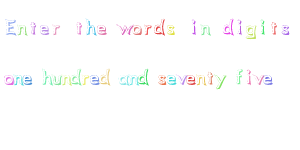E: (4, 16, 17, 36)
a: (117, 73, 129, 86)
d: (221, 17, 235, 36), (100, 68, 112, 86), (71, 68, 83, 85), (154, 18, 165, 35), (139, 67, 149, 85)
e: (20, 73, 33, 86), (262, 73, 274, 85), (96, 24, 109, 35), (185, 73, 196, 86), (39, 24, 50, 36), (89, 74, 100, 86), (167, 73, 176, 85)
f: (234, 67, 243, 85)
g: (245, 25, 257, 40)
h: (41, 66, 52, 86), (86, 18, 97, 35)
i: (189, 18, 198, 36), (235, 19, 244, 35), (258, 18, 266, 35), (245, 68, 252, 85)
n: (200, 23, 212, 36), (12, 73, 24, 86), (17, 24, 28, 36), (129, 73, 139, 86), (196, 73, 206, 86), (61, 74, 72, 85)
o: (2, 73, 15, 86), (131, 23, 142, 36)
r: (142, 23, 152, 36), (52, 24, 60, 35), (81, 74, 89, 85)
s: (279, 22, 291, 35), (156, 73, 167, 86), (166, 24, 176, 35)
t: (268, 21, 279, 35), (28, 19, 37, 35), (73, 21, 83, 35), (206, 69, 214, 86)
u: (52, 74, 62, 86)
v: (252, 72, 264, 85), (176, 74, 186, 85)
w: (115, 23, 133, 36)
y: (214, 73, 227, 90)
